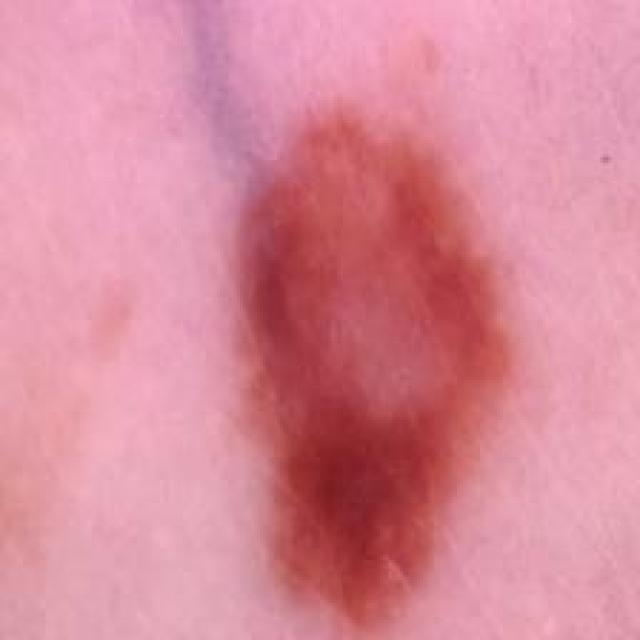Cancer: (223, 97, 517, 629)
